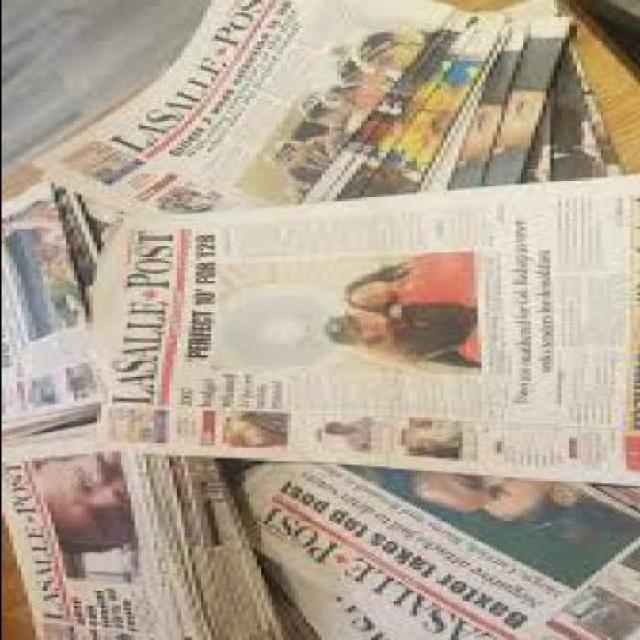paper: (95, 175, 637, 488), (26, 3, 457, 212), (231, 462, 637, 638), (1, 418, 294, 638), (328, 14, 506, 200), (1, 180, 116, 440), (485, 3, 617, 185), (443, 18, 572, 191)
